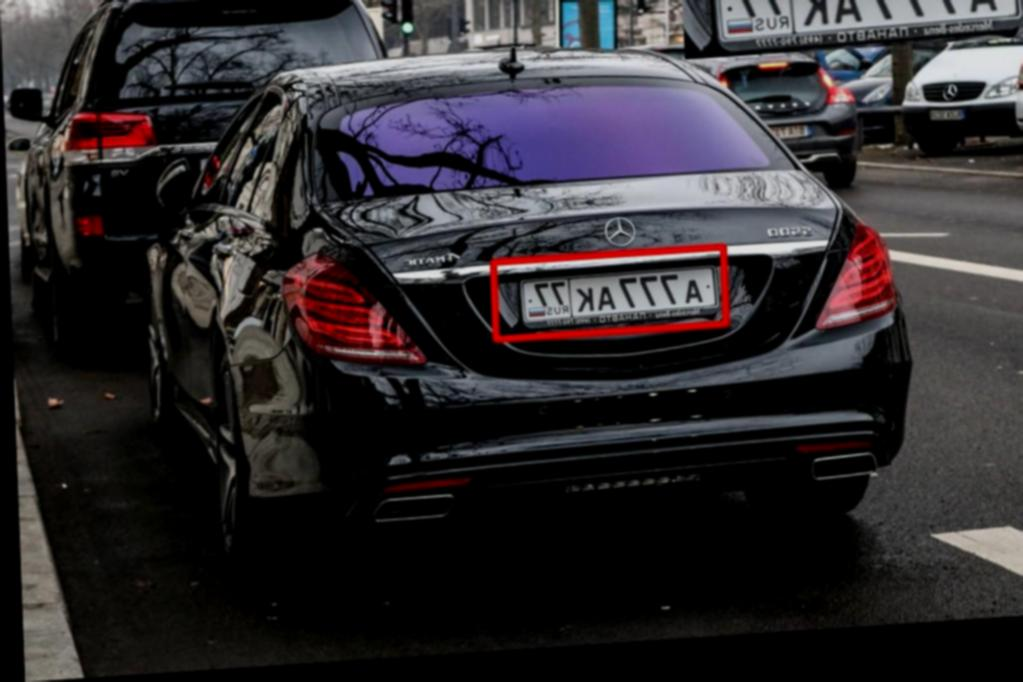License_Plate: (513, 250, 719, 324)
